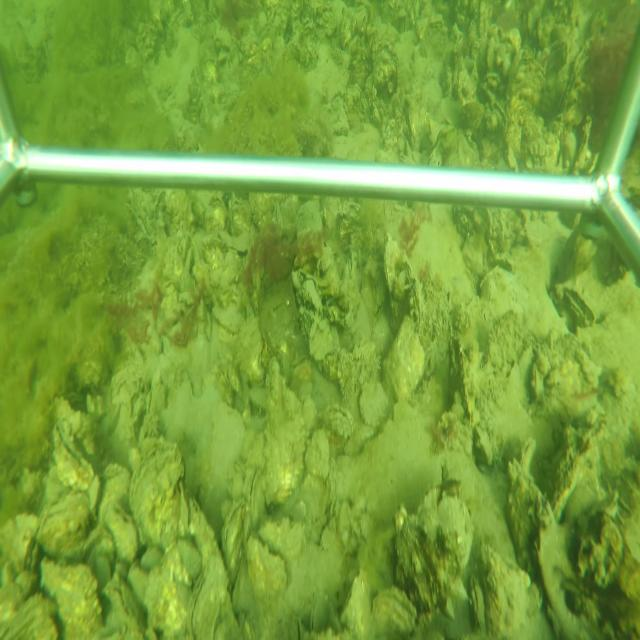Oyster-Closed: (128, 440, 184, 545), (27, 487, 94, 563), (186, 524, 230, 635), (53, 423, 98, 488), (101, 575, 143, 640), (468, 576, 487, 636), (382, 233, 399, 298), (246, 468, 263, 527), (303, 276, 322, 314)
Oyster-Indeterminate: (264, 356, 307, 508), (41, 559, 106, 638), (385, 314, 429, 403), (247, 534, 289, 599), (424, 125, 482, 171), (358, 379, 393, 426)
Oyster-Open: (564, 292, 596, 332)
